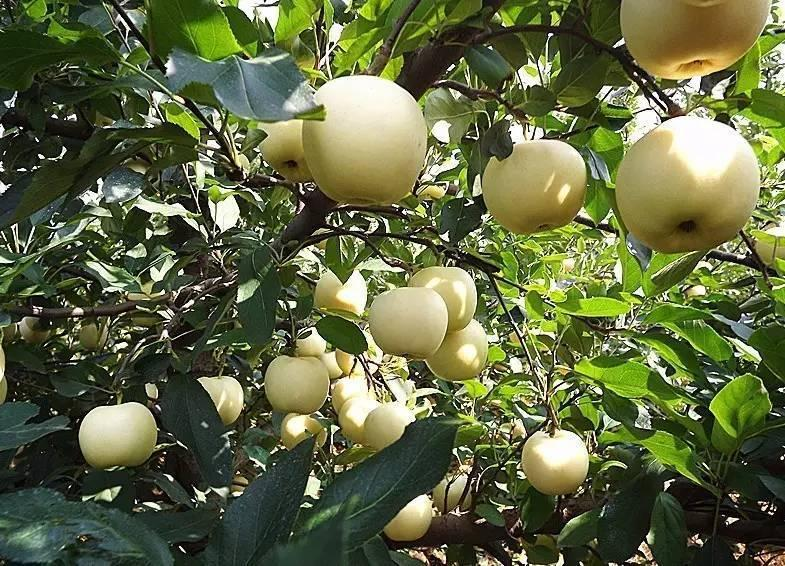apple: (615, 115, 761, 259), (302, 74, 429, 209), (618, 2, 773, 83), (483, 134, 586, 234), (368, 286, 449, 359), (77, 399, 158, 470), (520, 425, 591, 498), (256, 98, 313, 185), (409, 265, 477, 331), (422, 319, 488, 382), (265, 354, 330, 414), (434, 462, 477, 514), (79, 317, 105, 351)
